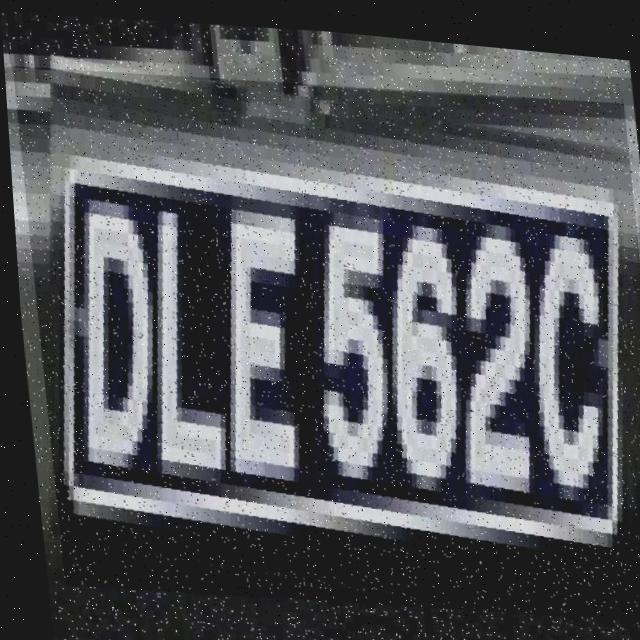LicensePlate: (11, 45, 640, 631)
